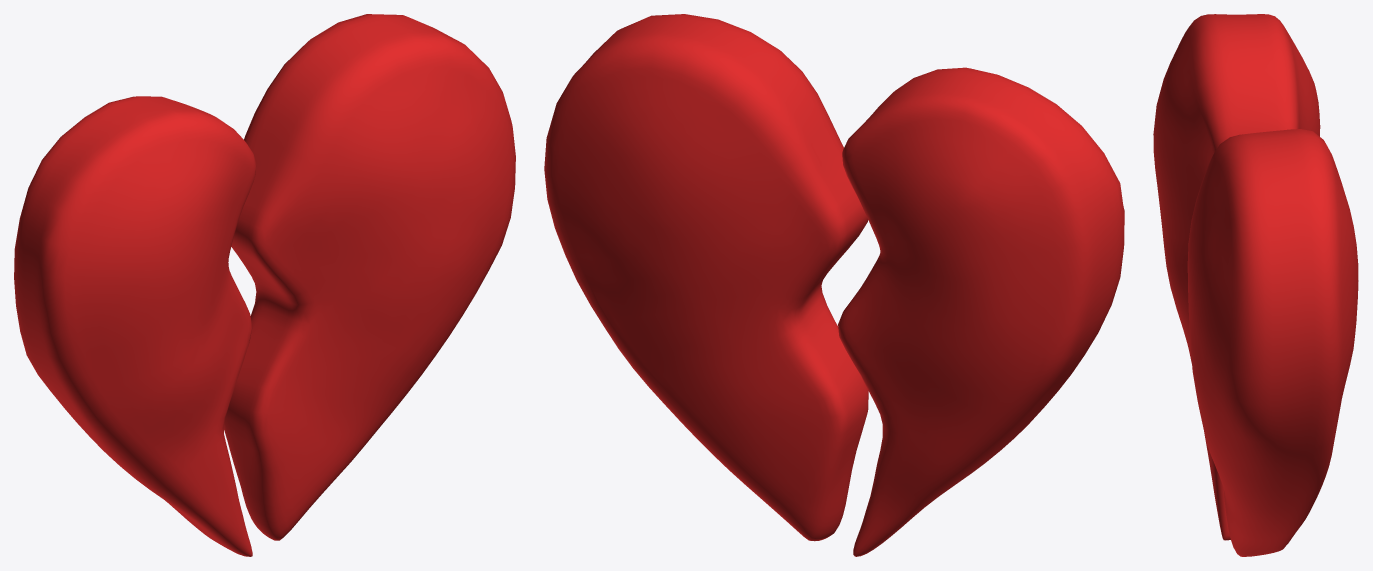
Rendered from broken heart FBX.glb.
The picture shows the model from 3 angles, left to right: view 1: azimuth 30°, elevation 25°; view 2: azimuth 150°, elevation 25°; view 3: azimuth 270°, elevation 25°; orthographic projection. The views are drawn at different scales.
Visible parts, largest first — view 1: Group55568, Group43974; view 2: Group55568, Group43974; view 3: Group55568, Group43974.
Part boxes in pixels (x1=…): Group55568: x1=223, y1=14, x2=515, y2=540; Group43974: x1=14, y1=96, x2=256, y2=556; Group55568: x1=544, y1=14, x2=868, y2=541; Group43974: x1=838, y1=67, x2=1124, y2=556; Group55568: x1=1187, y1=129, x2=1358, y2=556; Group43974: x1=1153, y1=14, x2=1320, y2=540.
Bounding box in the file's own units: 0.5837 × 0.5245 × 0.2069.
